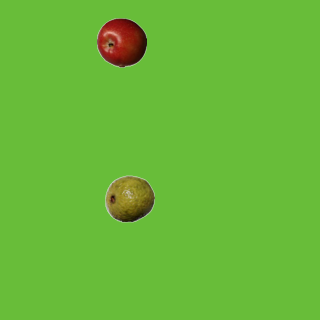Apple Braeburn: (96, 17, 146, 67)
Guava: (104, 173, 154, 223)
